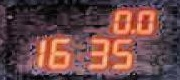-: (128, 27, 135, 33)
0: (135, 8, 155, 33), (111, 8, 130, 33)
1: (35, 37, 45, 67)
3: (85, 37, 108, 68)
5: (110, 37, 131, 68)
6: (47, 36, 72, 68)
